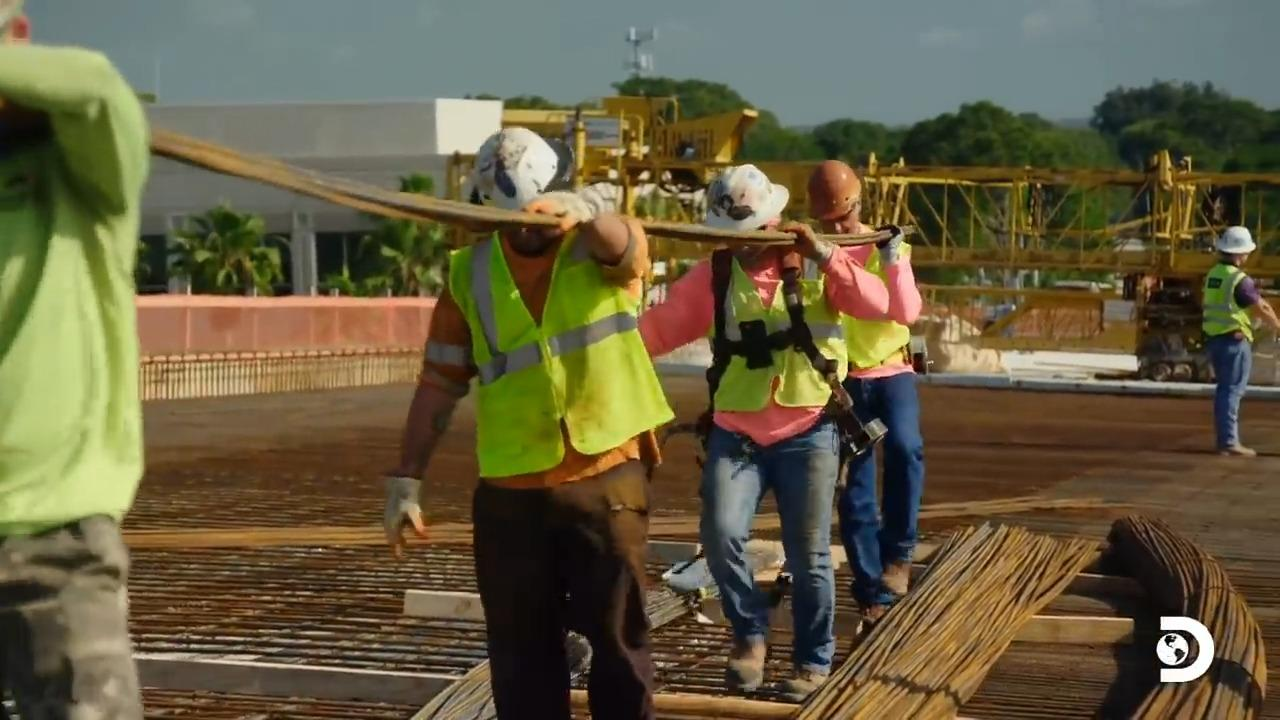Gloves: (373, 463, 434, 573), (545, 188, 616, 242), (785, 223, 827, 271)
Helmet: (468, 125, 574, 211), (702, 163, 790, 232), (805, 159, 861, 221), (1214, 225, 1256, 254)
Person: (381, 125, 675, 719), (635, 162, 900, 697), (780, 159, 925, 630), (1200, 225, 1279, 457)
Safety Boot: (715, 634, 774, 700), (785, 655, 826, 696), (880, 559, 909, 601), (847, 602, 879, 638), (1217, 440, 1250, 459)
Safety Vest: (477, 267, 656, 459), (716, 269, 824, 413), (850, 269, 902, 374), (1203, 272, 1245, 334)
